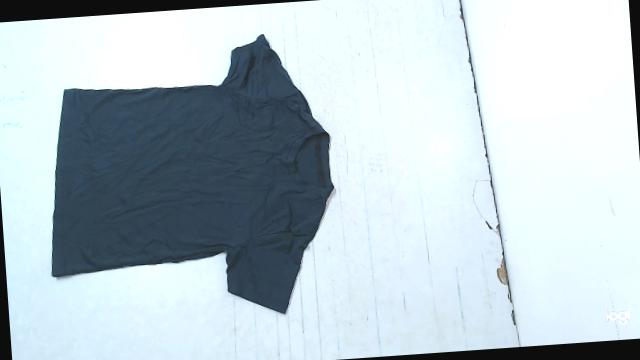new-garment: (51, 34, 332, 313)
